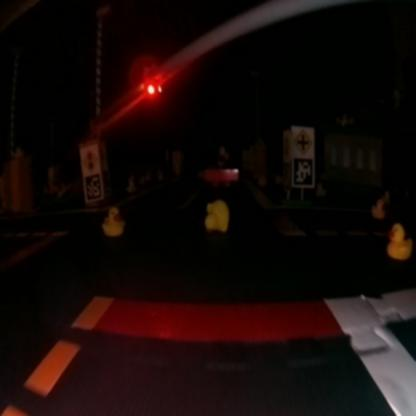duckie: (96, 198, 130, 244), (386, 216, 414, 266), (197, 200, 230, 235)
duckiebot: (197, 156, 242, 197)
